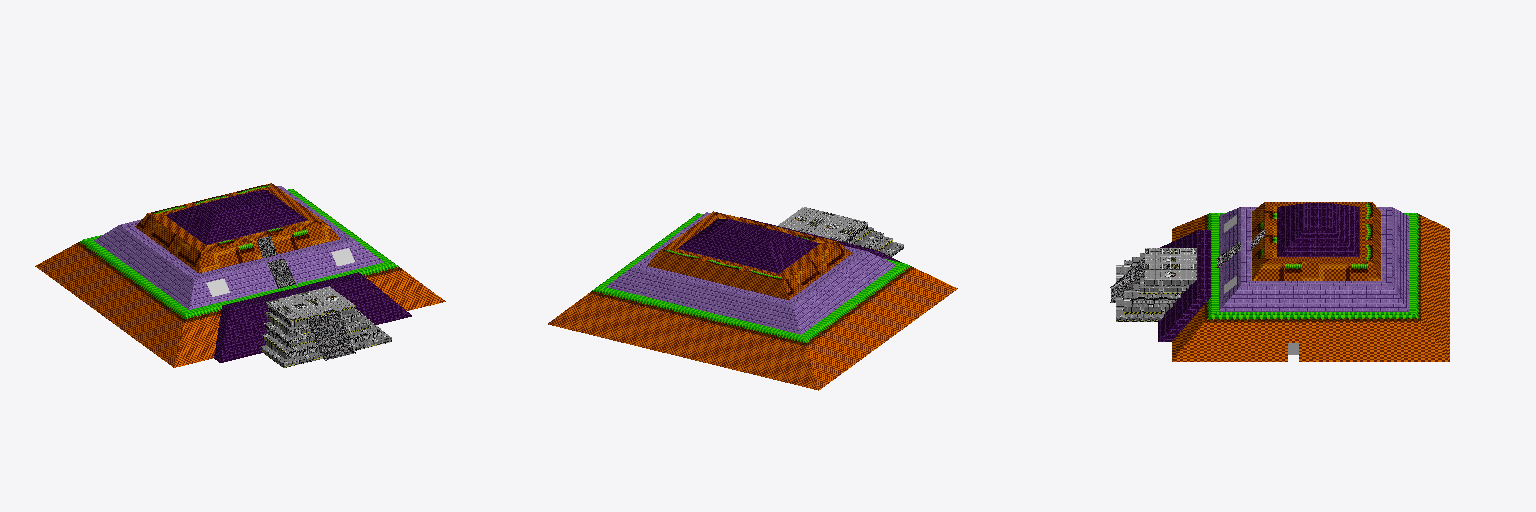
3 views of the same model, side by side, from view 1: azimuth 30°, elevation 25°; view 2: azimuth 150°, elevation 25°; view 3: azimuth 270°, elevation 25° (orthographic).
Visible parts, largest first — view 1: Plane, Plane.001, Cube; view 2: Plane, Plane.001; view 3: Plane, Plane.001, Cube.
Part boxes in pixels (left/top/right/bottom): Plane: left=35, top=183, right=445, bottom=367; Plane.001: left=260, top=286, right=391, bottom=367; Cube: left=257, top=236, right=355, bottom=360; Plane: left=548, top=211, right=957, bottom=390; Plane.001: left=778, top=207, right=903, bottom=256; Plane: left=1158, top=202, right=1449, bottom=361; Plane.001: left=1116, top=248, right=1196, bottom=321; Cube: left=1110, top=229, right=1264, bottom=302.
Size of the model in its own units: 22.98 by 6.34 by 24.89.
10 materials, 7 textured.